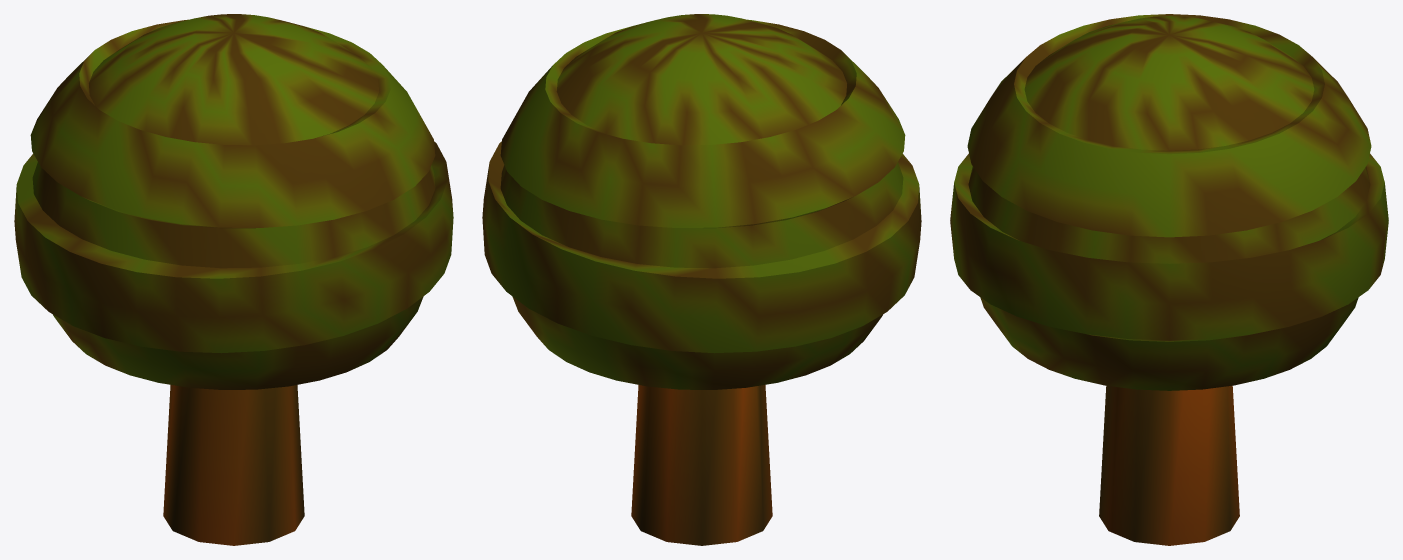
File: Farm_Crop_Tree_02_Dead.fbx
The picture shows the model from 3 angles, left to right: view 1: azimuth 30°, elevation 25°; view 2: azimuth 150°, elevation 25°; view 3: azimuth 270°, elevation 25°; orthographic projection.
Visible parts, largest first — view 1: Farm_Crop_Tree_02_Dead; view 2: Farm_Crop_Tree_02_Dead; view 3: Farm_Crop_Tree_02_Dead.
Boxes of the visible parts, bbox=[...] form: Farm_Crop_Tree_02_Dead: bbox=[14, 14, 453, 545]; Farm_Crop_Tree_02_Dead: bbox=[482, 14, 921, 545]; Farm_Crop_Tree_02_Dead: bbox=[950, 14, 1388, 545].
Size of the model in its own units: 199 by 241 by 199.
